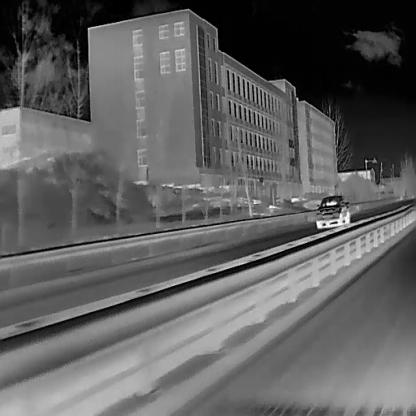truck: (314, 193, 350, 228)
